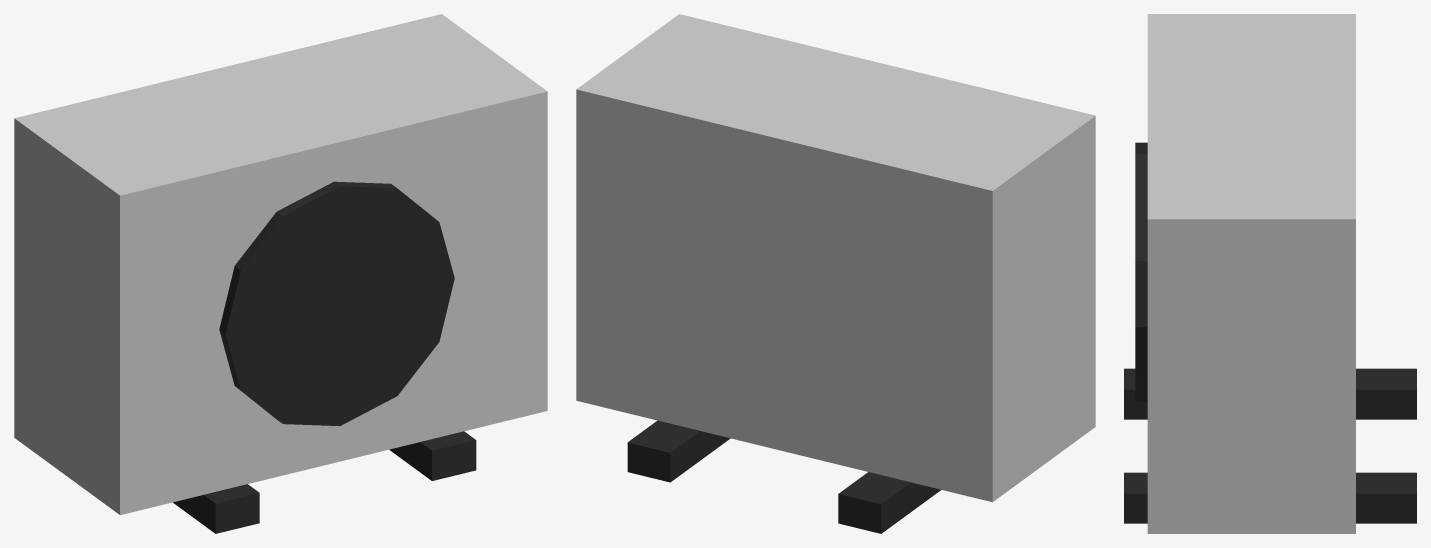
Rendered from HousePart_01.fbx.
3 views of the same model, side by side, from view 1: azimuth 30°, elevation 25°; view 2: azimuth 150°, elevation 25°; view 3: azimuth 270°, elevation 25° (orthographic). The views are drawn at different scales.
Visible parts, largest first — view 1: HousePart_01; view 2: HousePart_01; view 3: HousePart_01.
Boxes of the visible parts, x1,y1,x2,y2 form: HousePart_01: (14, 14, 547, 533); HousePart_01: (576, 14, 1095, 533); HousePart_01: (1124, 14, 1416, 533).
Bounding box in the file's own units: 70 × 54.74 × 42.17.
